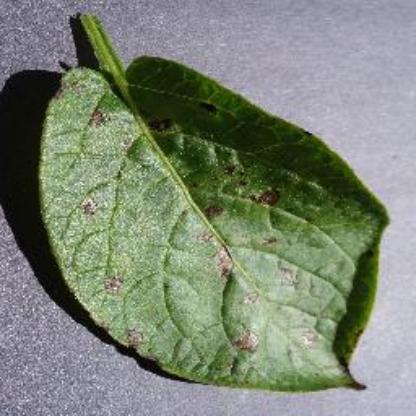Early-Blight: (32, 7, 382, 393)
